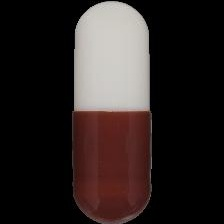55154-5868: (0, 0, 224, 224)
